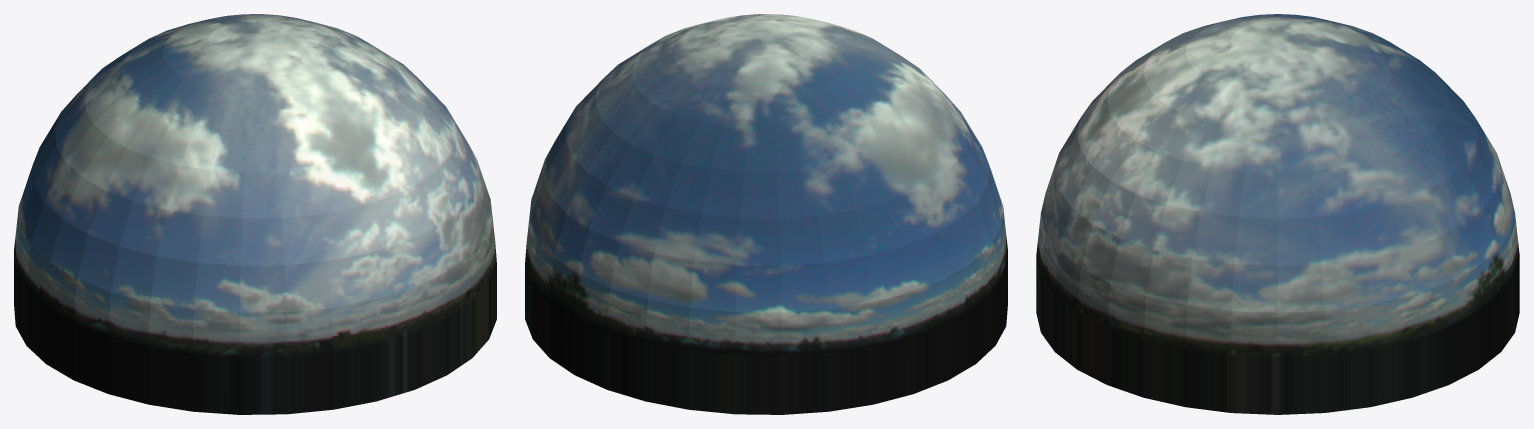
Rendered from skybox.obj.
The picture shows the model from 3 angles, left to right: view 1: azimuth 30°, elevation 25°; view 2: azimuth 150°, elevation 25°; view 3: azimuth 270°, elevation 25°; orthographic projection.
Parts seen in each view (by area): view 1: Skybox; view 2: Skybox; view 3: Skybox.
Part boxes in pixels (bbox=[...]): Skybox: bbox=[14, 14, 496, 414]; Skybox: bbox=[525, 14, 1007, 414]; Skybox: bbox=[1036, 14, 1519, 414].
Size of the model in its own units: 187 by 118 by 187.
Materials: 1 (1 with a texture image).
